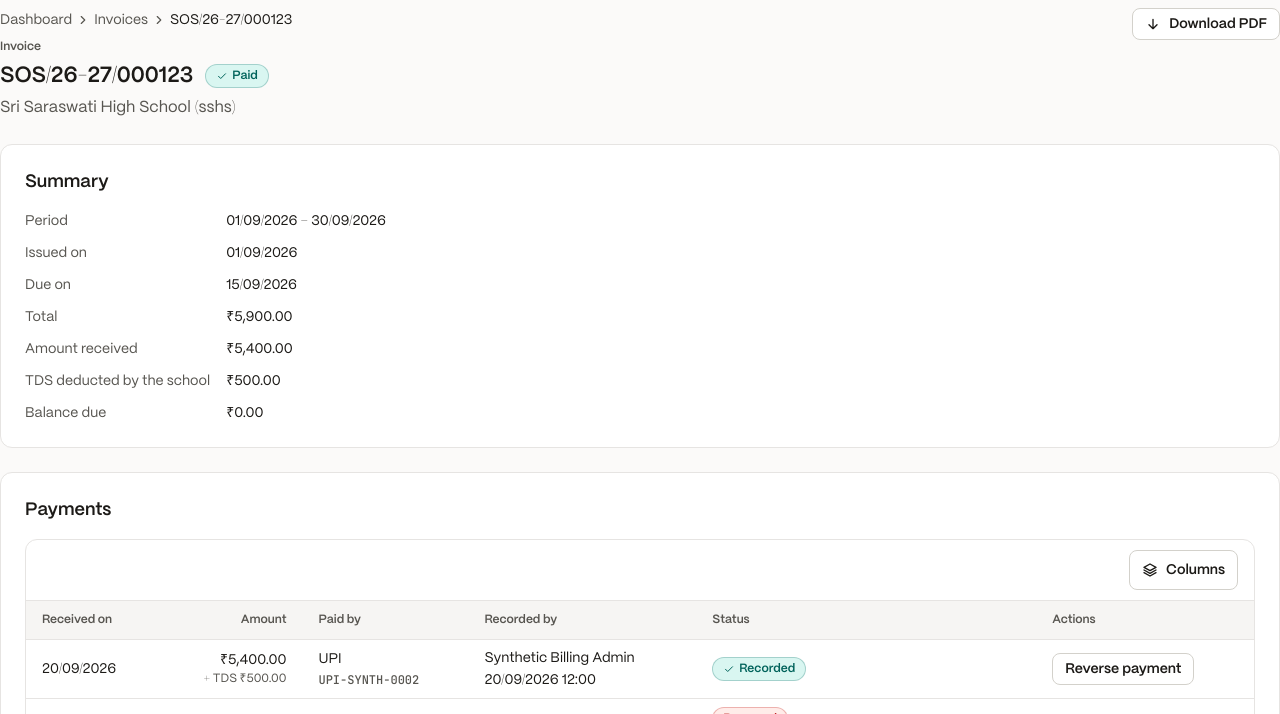
Test: invoice payments (FR-PLT-018, docs/16 §5.9) › 409 invalid_state: says it was already reversed and reloads the list
Check: the text "UPI-SYNTH-0002" is shown, box [318,672,419,688]
Click the button "Reverse payment".
click(1123, 669)  # box [1052,653,1194,685]
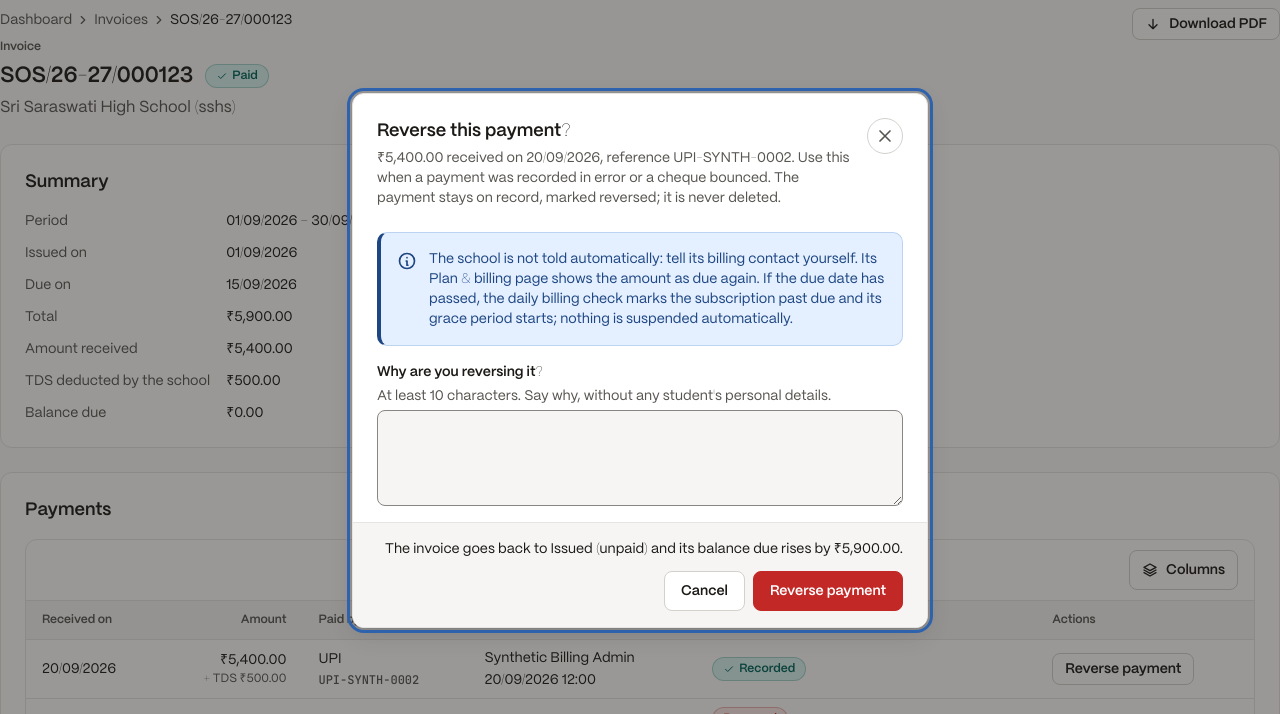
Type "Recorded against the wrong invoice" into the text box labelled "Why are you reversing it?".
click(640, 458); type("Recorded against the wrong invoice")  # box [377,410,903,506]
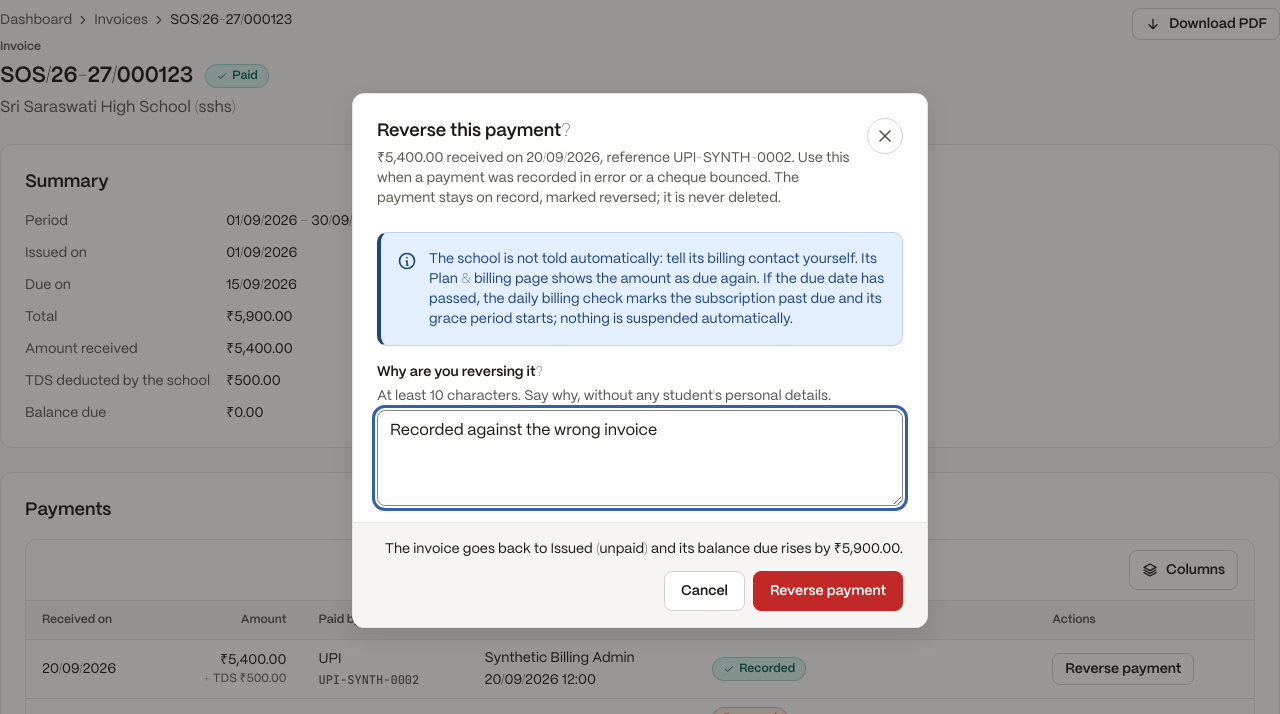
Click the button "Reverse payment" below "Why are you reversing it?".
click(828, 590)  # box [753,570,903,610]
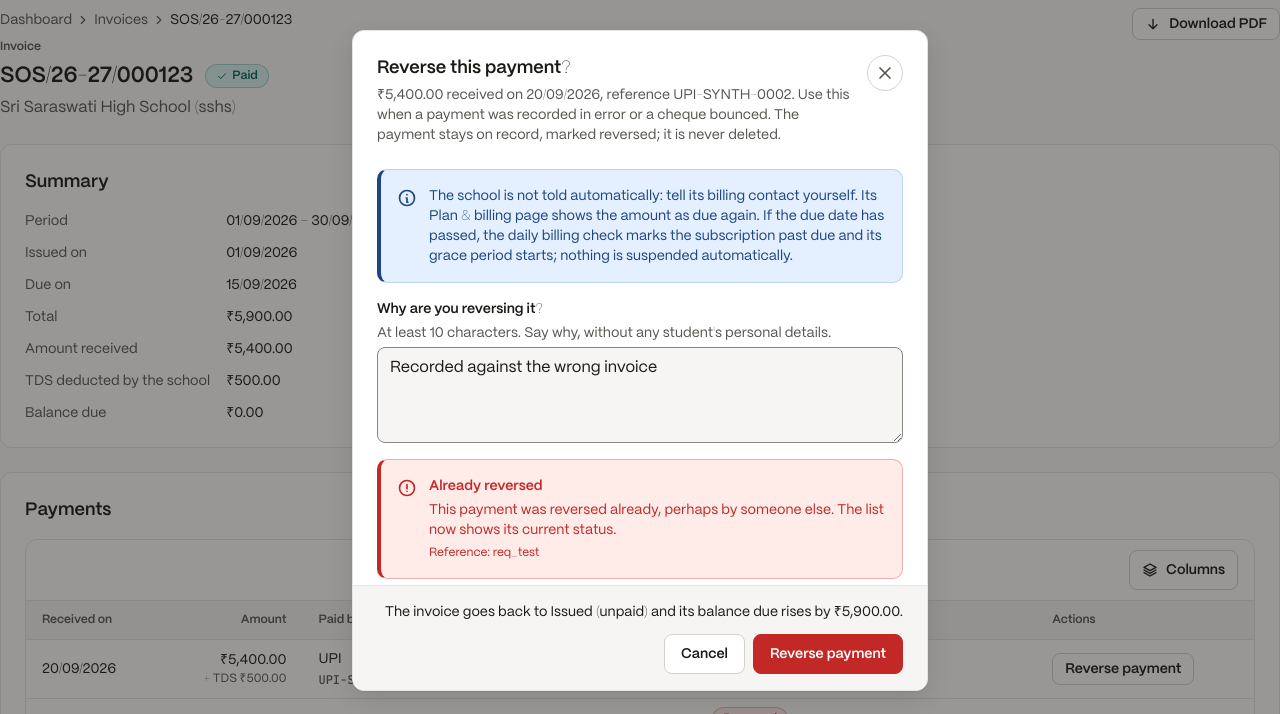
Check: the text "Already reversed" is shown, box [429,478,543,492]
Check: the text "This payment was reversed already, perhaps by someone else. The list now shows its current status." is shown, box [429,502,884,536]
